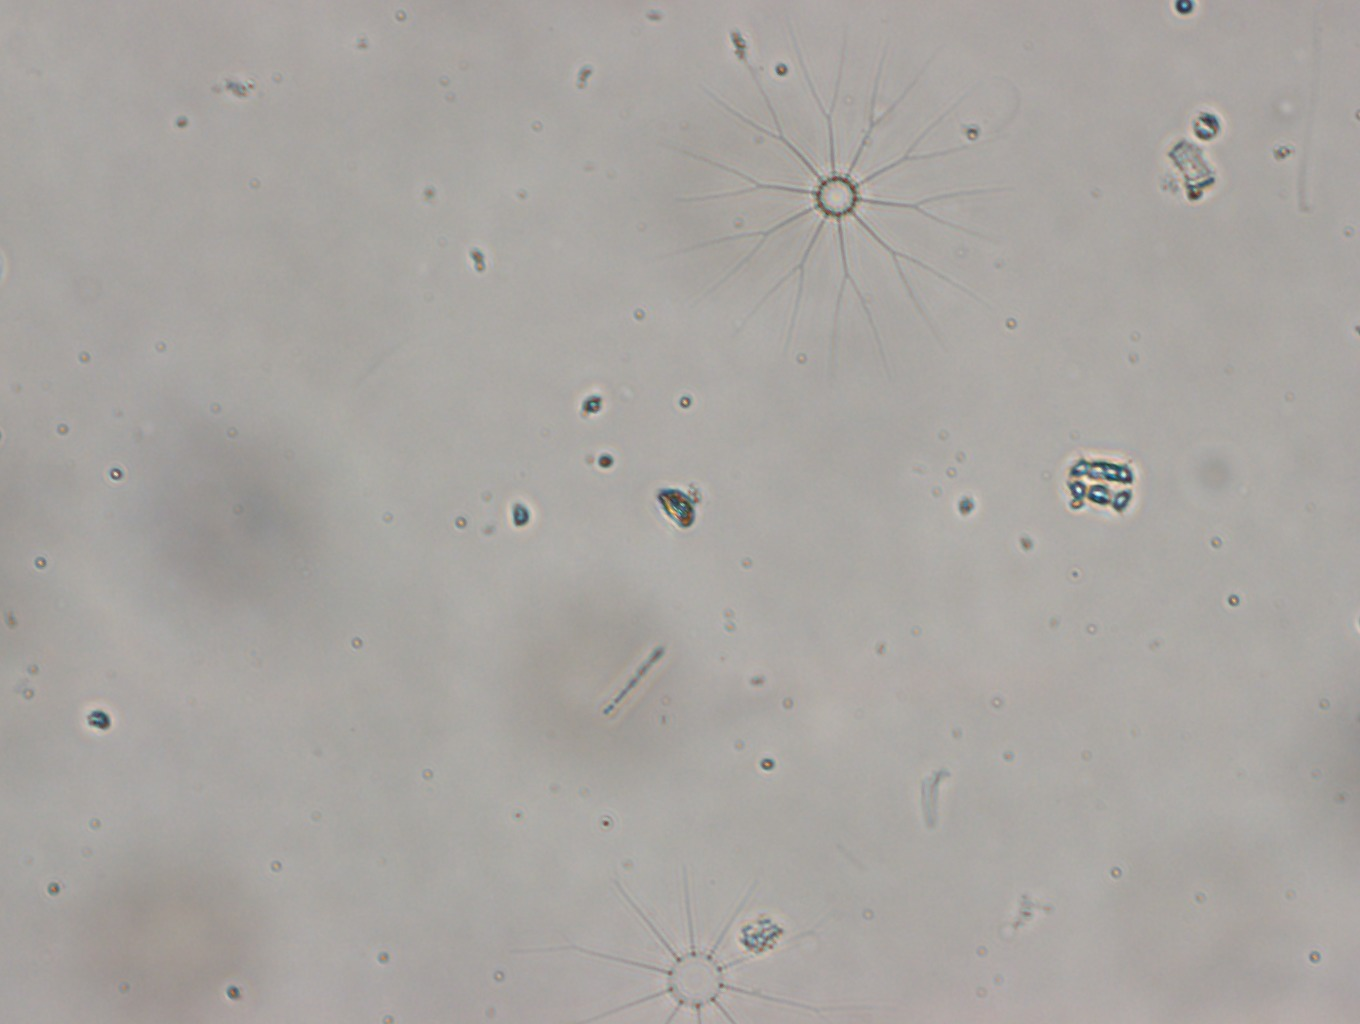bacteriastrum: (660, 32, 1025, 369)
